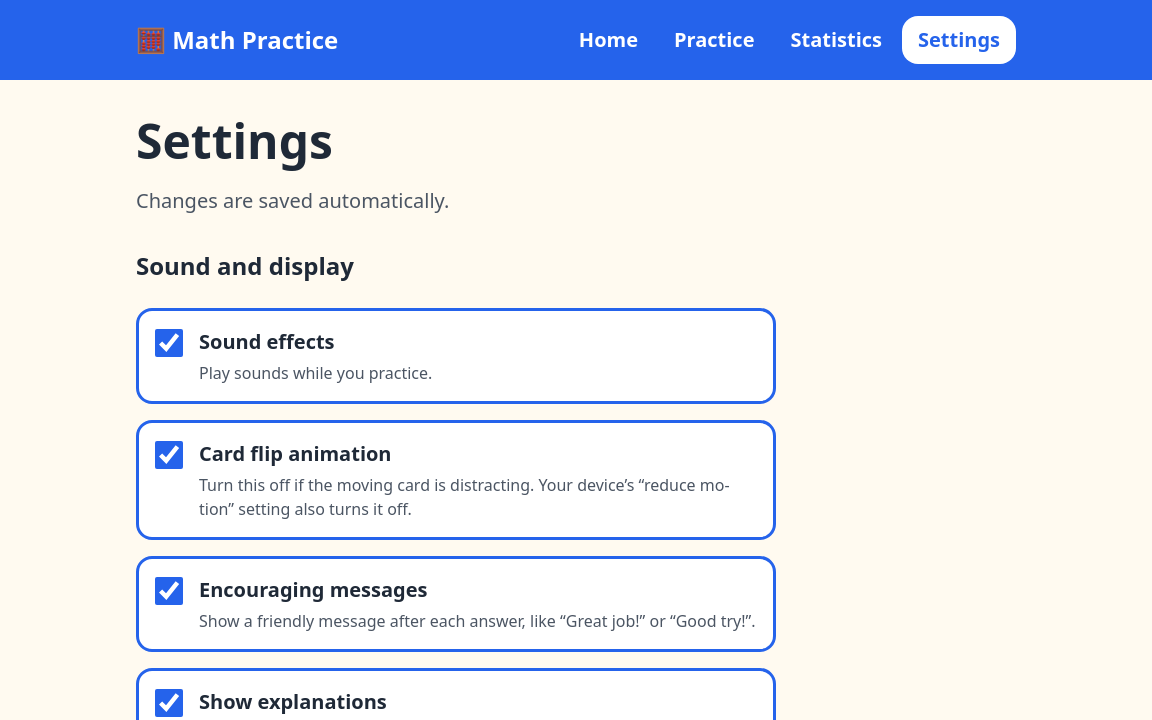
SettingsPage › saves the Sound effects setting automatically
The image size is (1152, 720).
Click the checkbox labelled "Sound effects" at (169, 343), box [155,329,183,357]
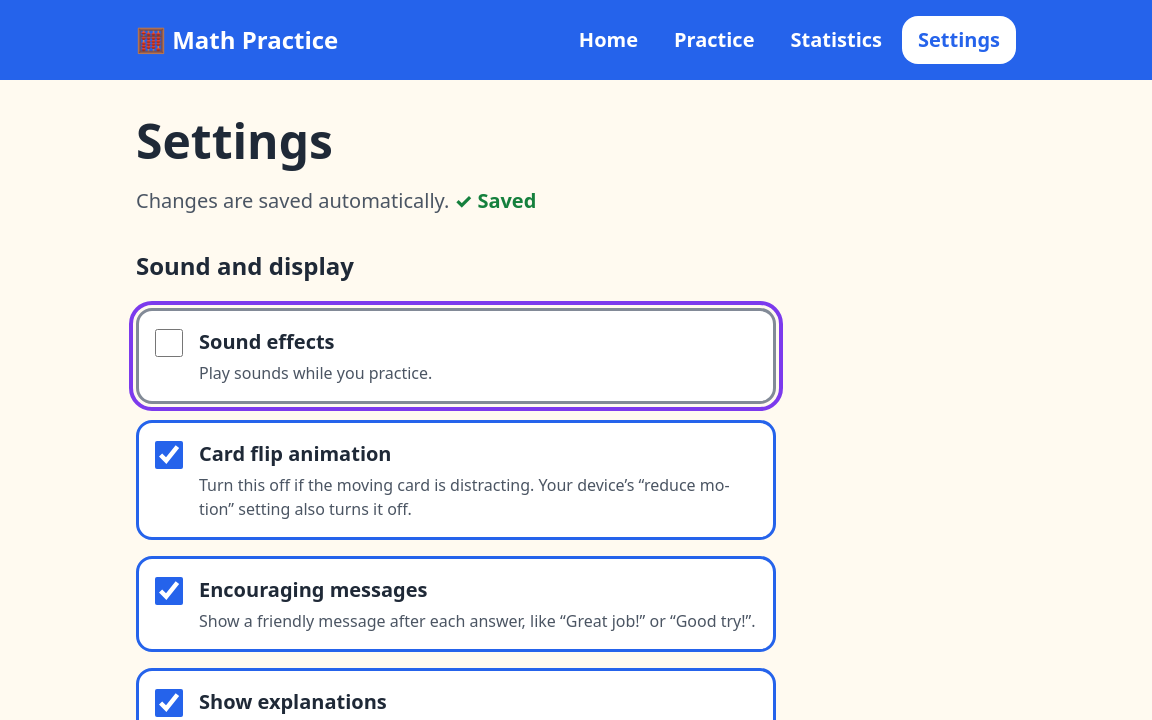
Now the checkbox labelled "Sound effects" is not checked, box [155,329,183,357]
Now the message shows "Saved", box [454,187,536,214]
